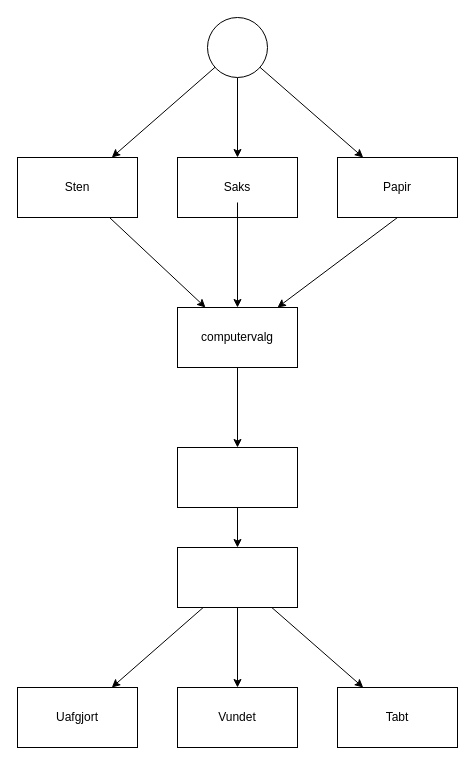
Some shapes in this 475 by 765 pixel diagram are drawn without their labels. The shapes that lost their labels are listed below. From the top down, each one's box as (x1, y1, x2, y2) in pixels, then its label:
(206, 16, 268, 78): Start
(176, 446, 298, 508): Animatiion kører
(176, 546, 298, 608): Evaluering
